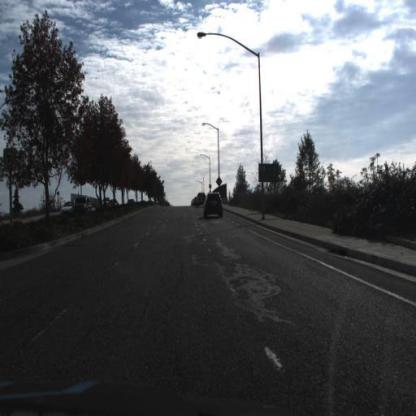car: (203, 192, 225, 219), (73, 194, 93, 217), (60, 202, 75, 219), (196, 193, 208, 208), (102, 199, 110, 211), (193, 196, 201, 207), (127, 201, 137, 206)
